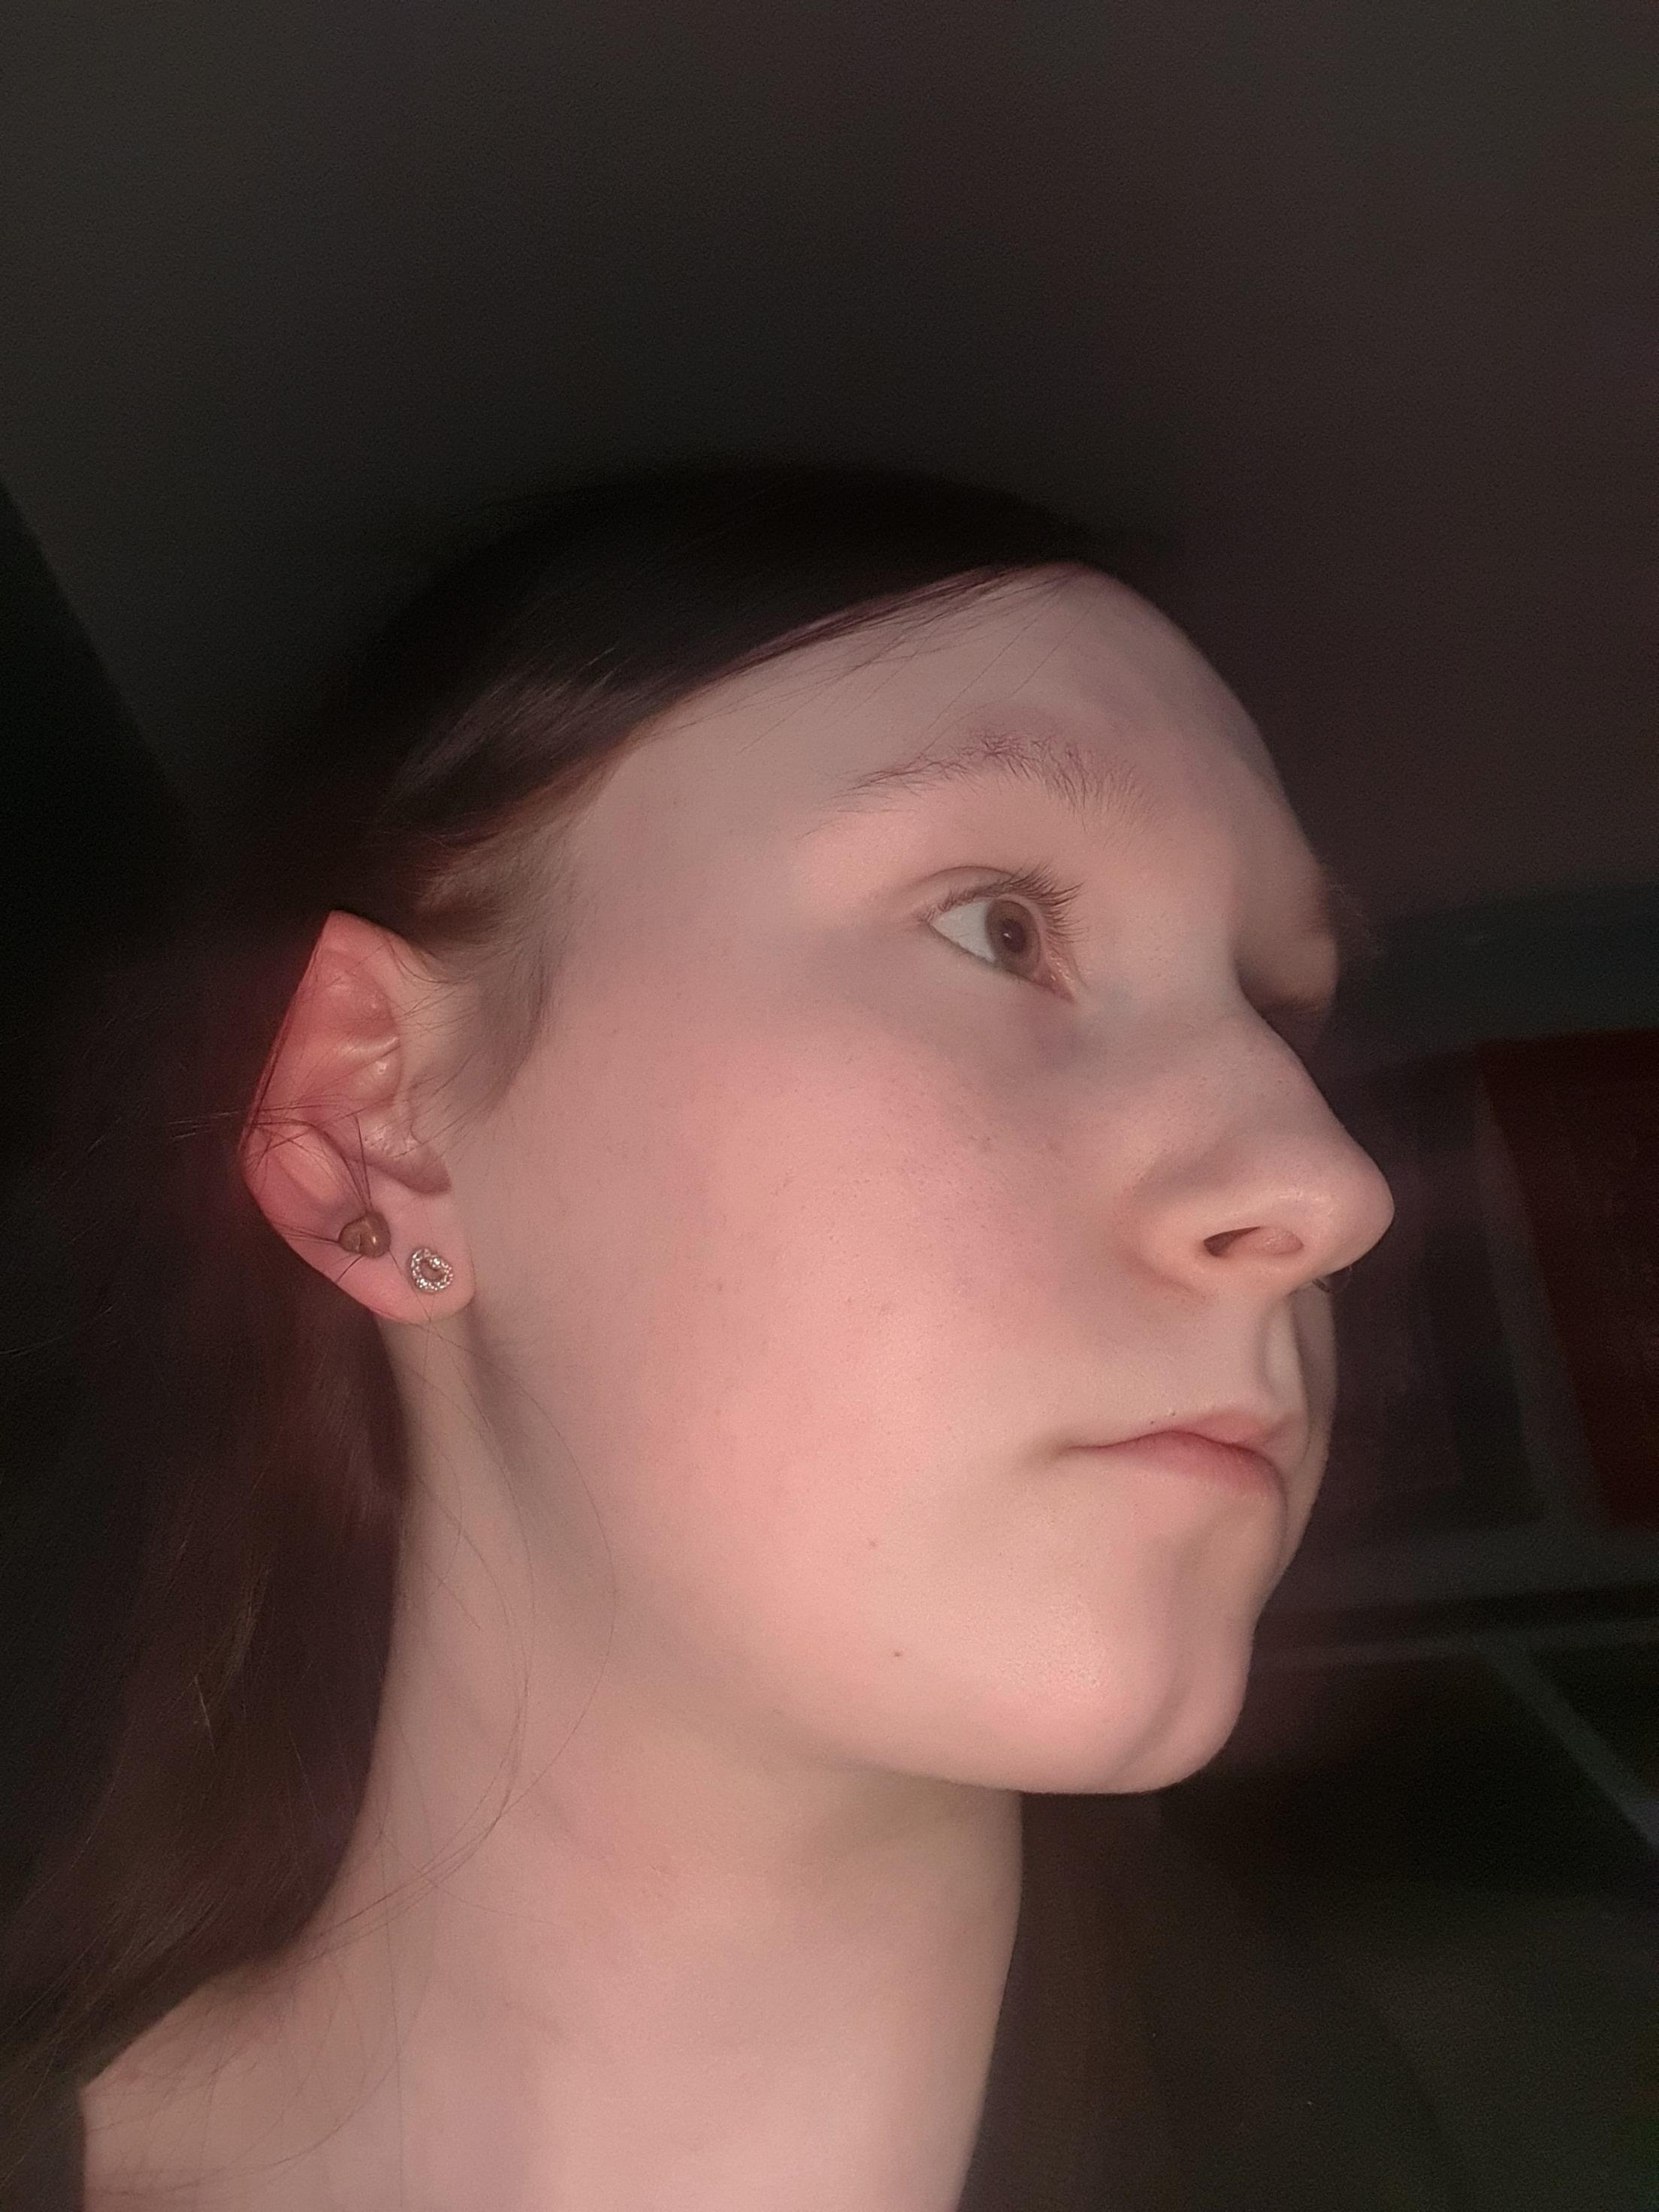Englarged-Pores: (857, 1057, 1086, 1345)
